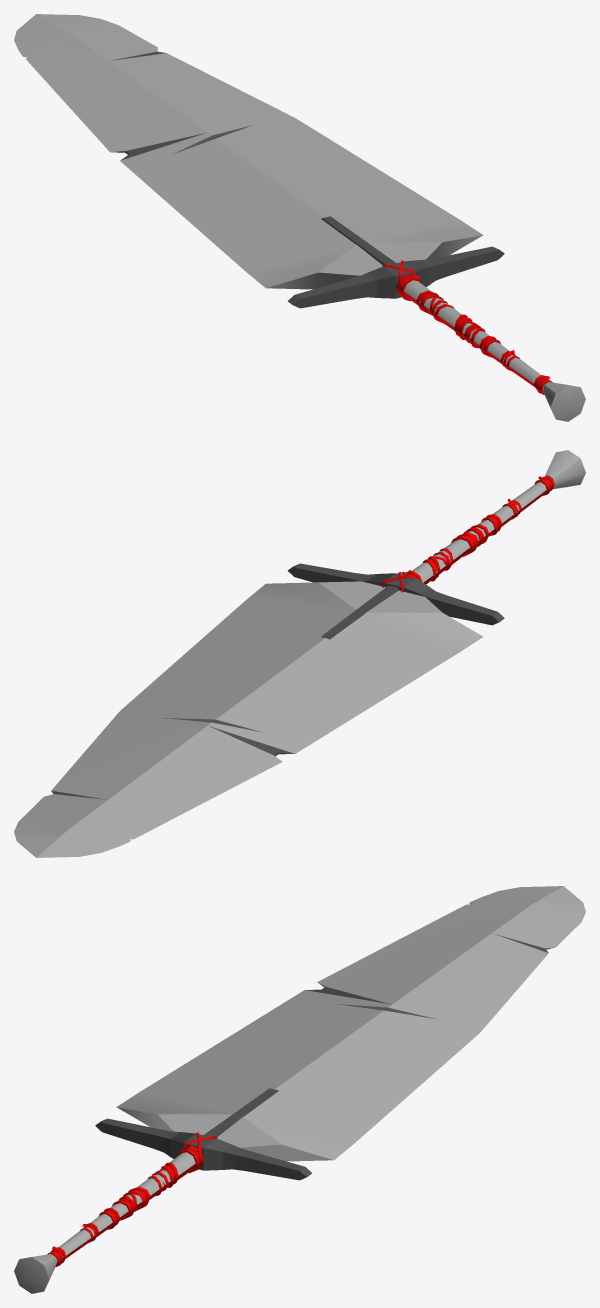
Rendered from 001 - Espada Gigante.fbx.
The picture shows the model from 3 angles, top to bottom: view 1: azimuth 30°, elevation 25°; view 2: azimuth 150°, elevation 25°; view 3: azimuth 330°, elevation 25°; orthographic projection.
Parts seen in each view (by area): view 1: Espada_Gigante; view 2: Espada_Gigante; view 3: Espada_Gigante.
Boxes of the visible parts, <box> form: Espada_Gigante: <box>14,14,585,421</box>; Espada_Gigante: <box>14,450,585,857</box>; Espada_Gigante: <box>14,886,585,1293</box>.
Size of the model in its own units: 74.69 by 12.13 by 317.
